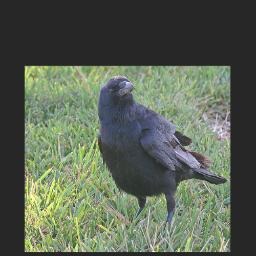Crow: (97, 75, 228, 234)
